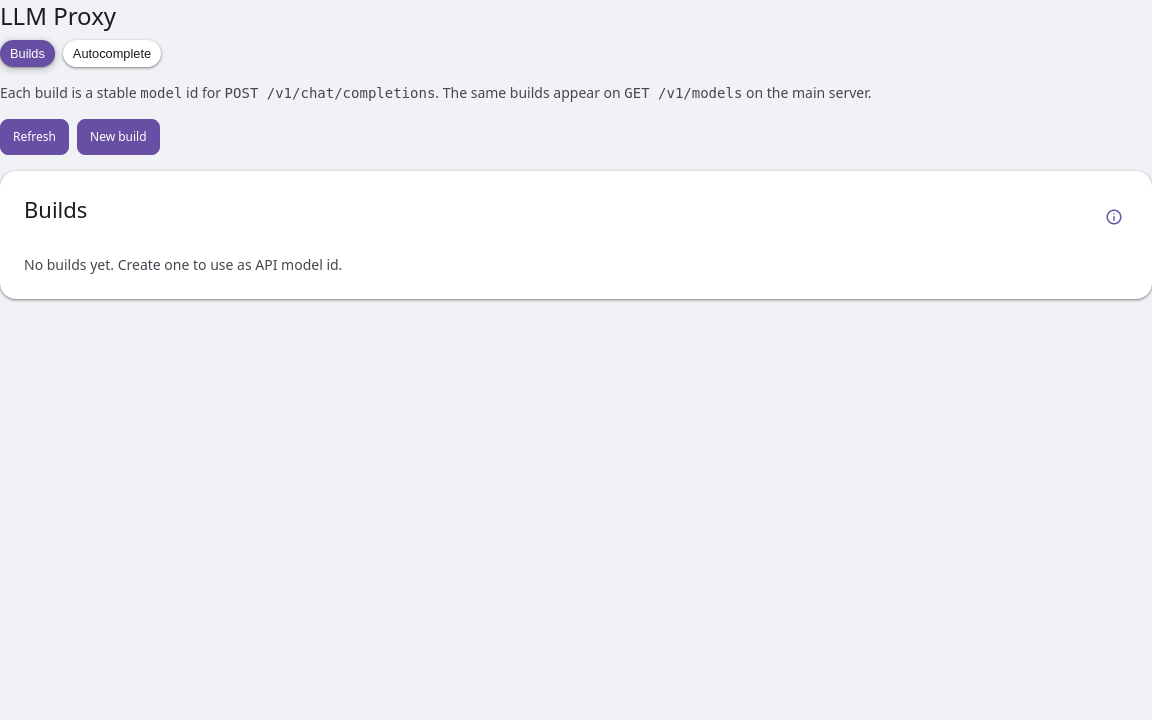
it: LlmProxyBuildsTab smoke › opens new build wizard without crashing
The width and height of the screenshot is (1152, 720).
Click the button "New build". click: (118, 137)
box: [77, 119, 160, 155]
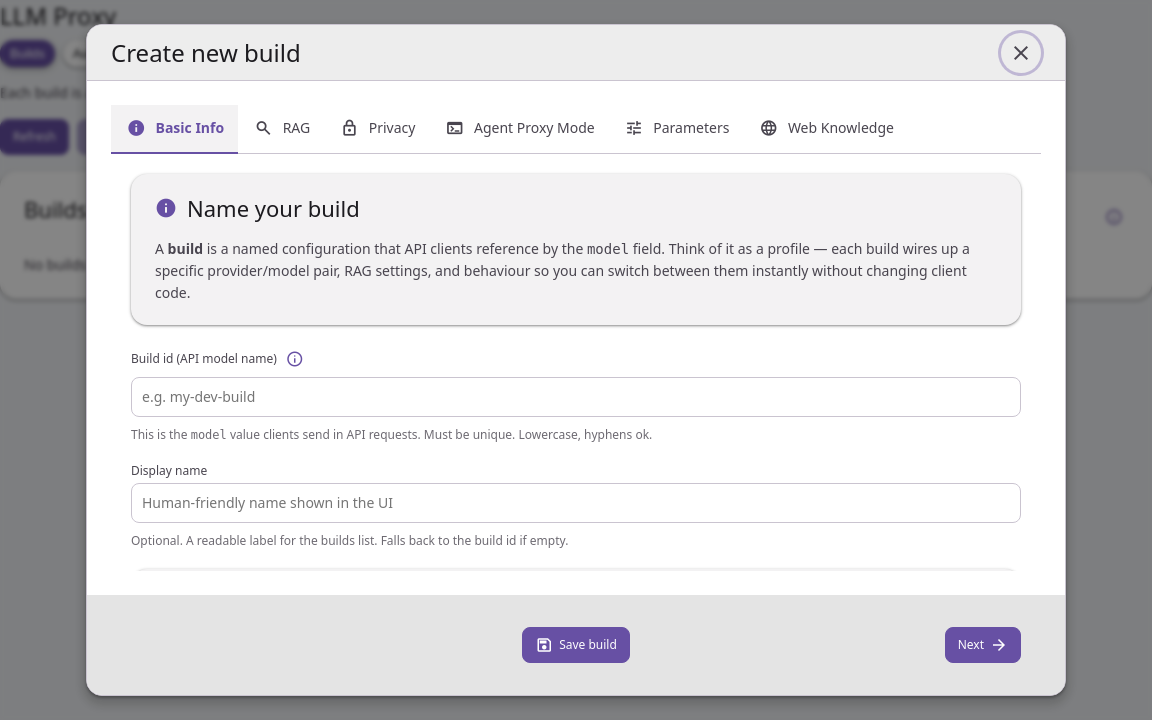
Expected: the heading "Create new build" is shown, [111, 36, 301, 68]
Expected: the button "Save build" is shown, [522, 627, 630, 663]
